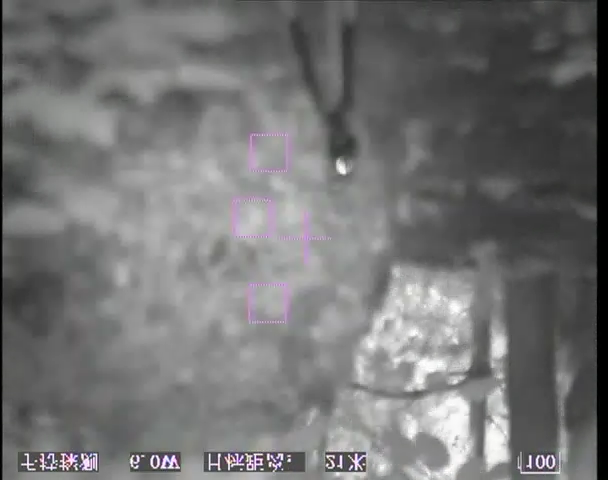my: (333, 155, 354, 177)
